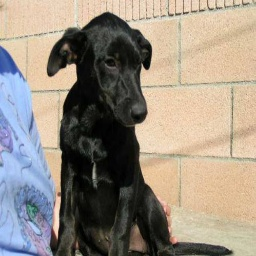dog: (39, 10, 170, 253)
